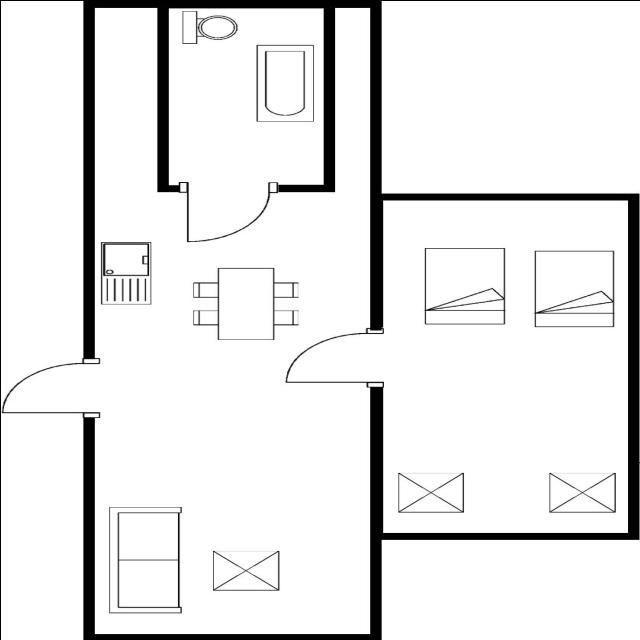bed: (185, 264, 301, 342), (418, 242, 514, 328), (528, 246, 621, 331)
coffee_table: (542, 468, 622, 516), (392, 468, 469, 516), (207, 546, 287, 592)
large_sink: (178, 8, 240, 48)
large_sofa: (105, 503, 189, 618)
sink: (96, 238, 158, 308)
tub: (245, 39, 322, 124)
